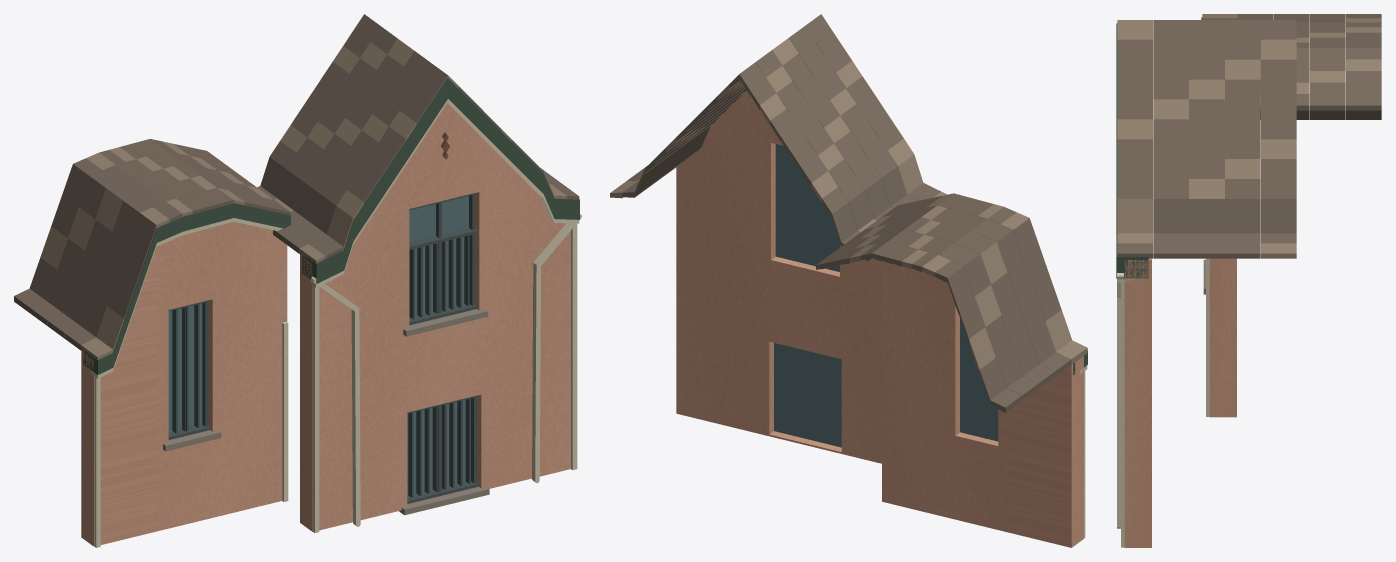
File: changning-tangshan-village-offset-gables-lod.glb
3 renders of one model, left to right at view 1: azimuth 30°, elevation 25°; view 2: azimuth 150°, elevation 25°; view 3: azimuth 270°, elevation 25°, orthographic. The views are drawn at different scales.
Visible parts, largest first — view 1: 汤山村弄内住宅错落双山墙; view 2: 汤山村弄内住宅错落双山墙; view 3: 汤山村弄内住宅错落双山墙.
Part boxes in pixels (box(x1,y1,x2,y2)): 汤山村弄内住宅错落双山墙: box(14, 14, 581, 547); 汤山村弄内住宅错落双山墙: box(610, 14, 1087, 547); 汤山村弄内住宅错落双山墙: box(1116, 14, 1381, 547).
Bounding box in the file's own units: 5.07 × 4.68 × 2.44.
Materials: 9 (1 with a texture image).
